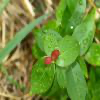Cherry leaf: (27, 56, 56, 96), (64, 57, 89, 99), (53, 34, 82, 65)
